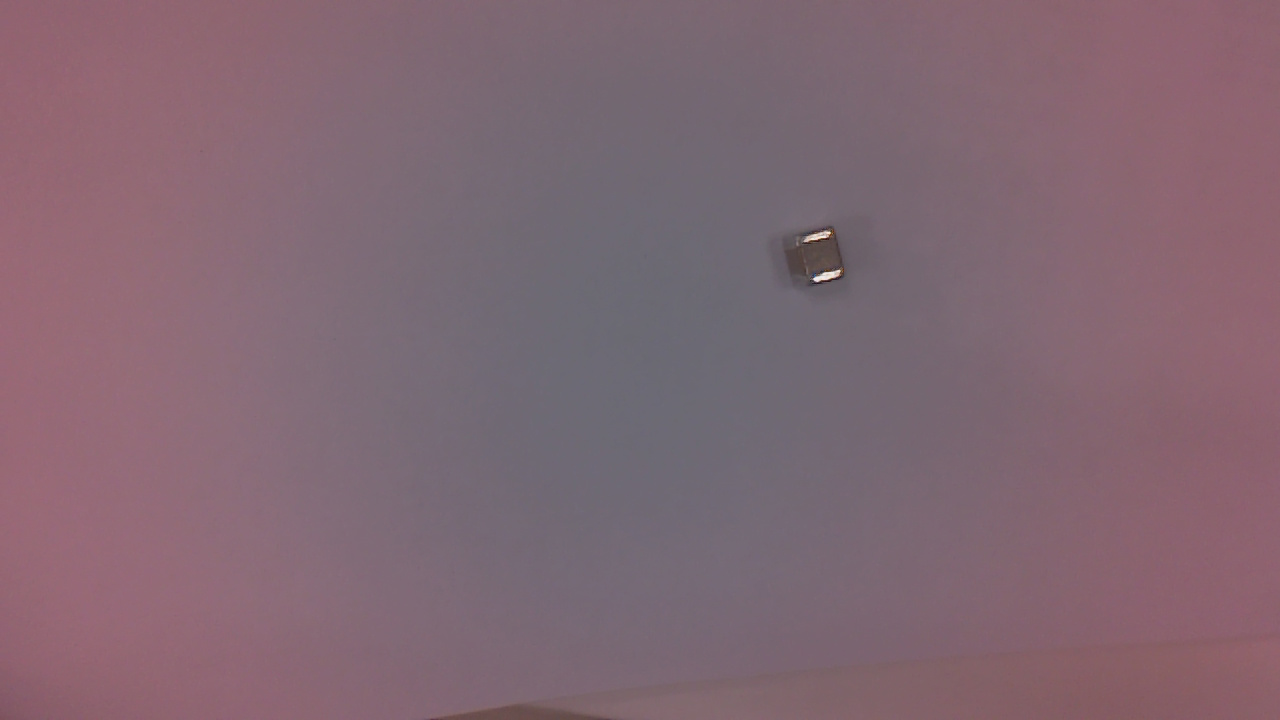Condensator: (793, 229, 852, 293)
